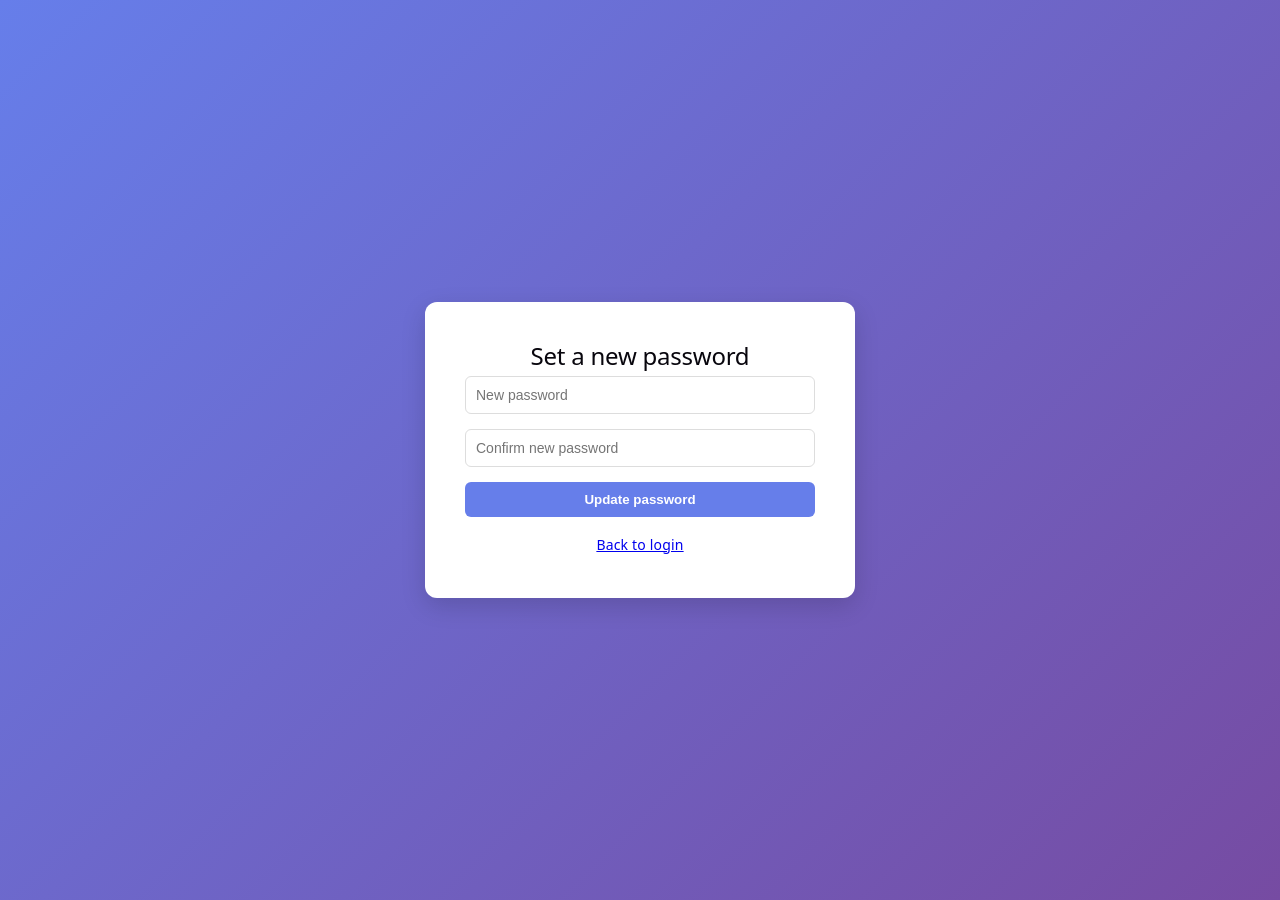
Scenario: ResetPassword page › rejects short passwords client-side
This screenshot has width=1280, height=900.
Type "ab" into the password field with placeholder "New password" at coordinates (640, 395), box [465,376,815,414]
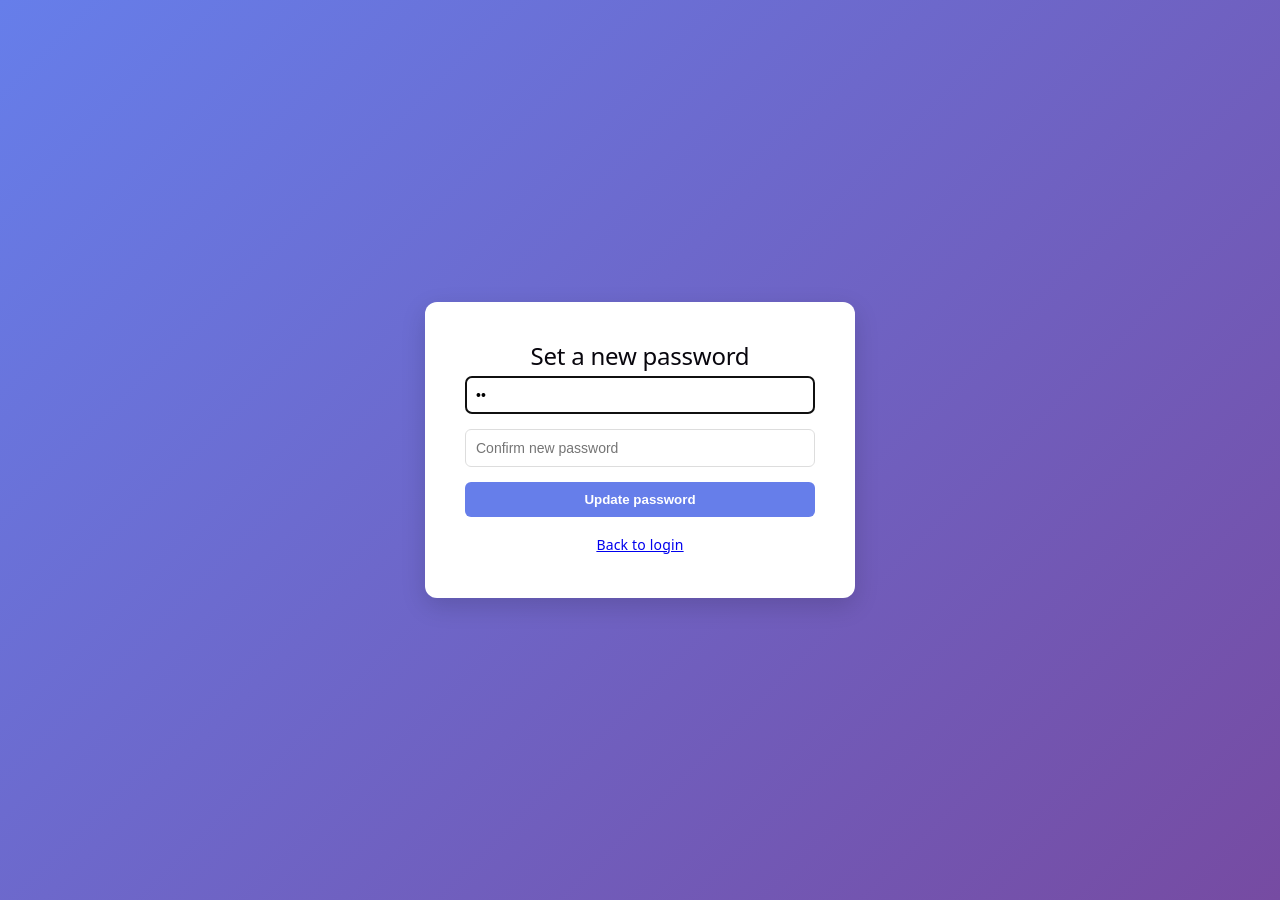
Type "ab" into the password field with placeholder "Confirm new password" at coordinates (640, 448), box [465,429,815,467]
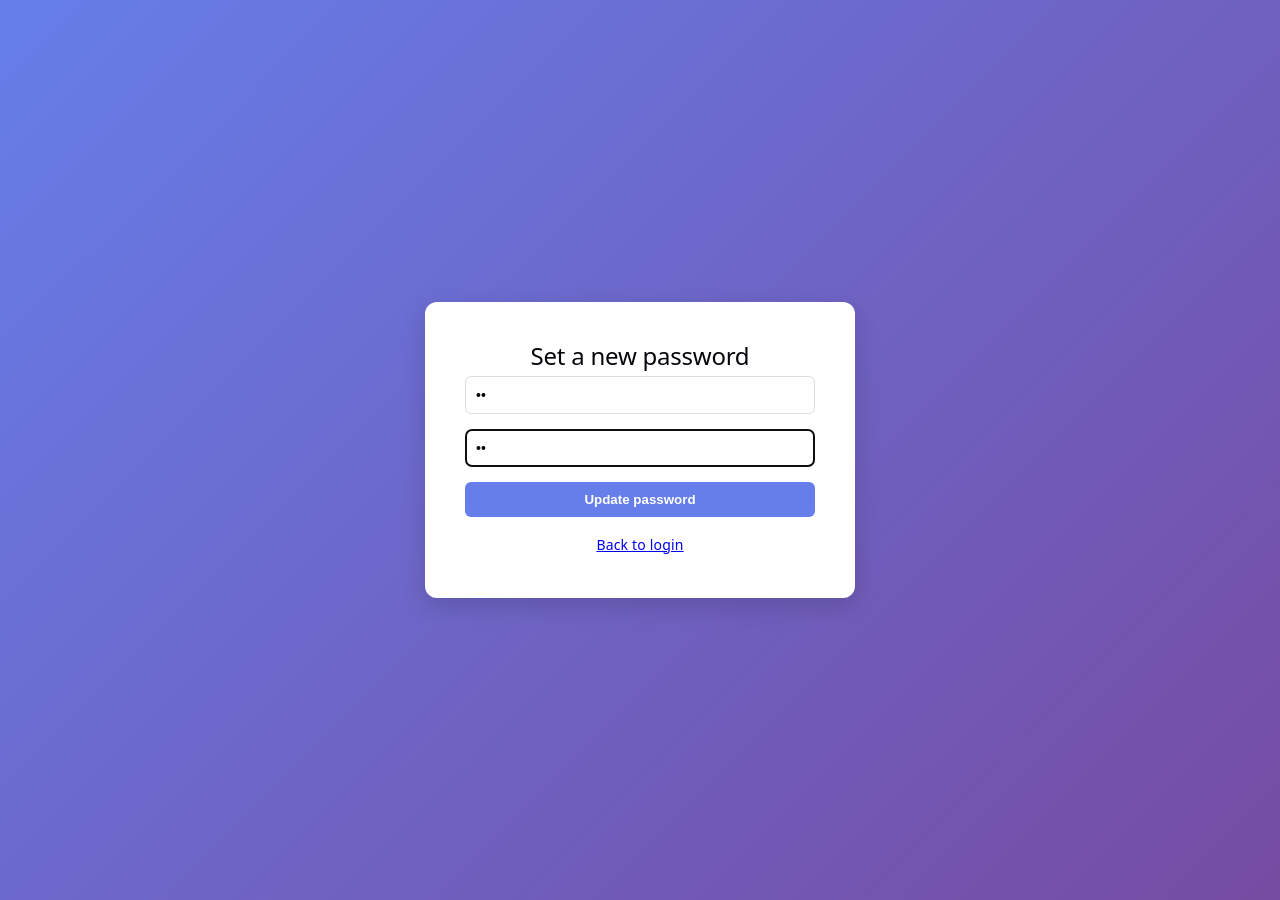
Click the button "Update password" at coordinates (640, 499), box [465,482,815,517]
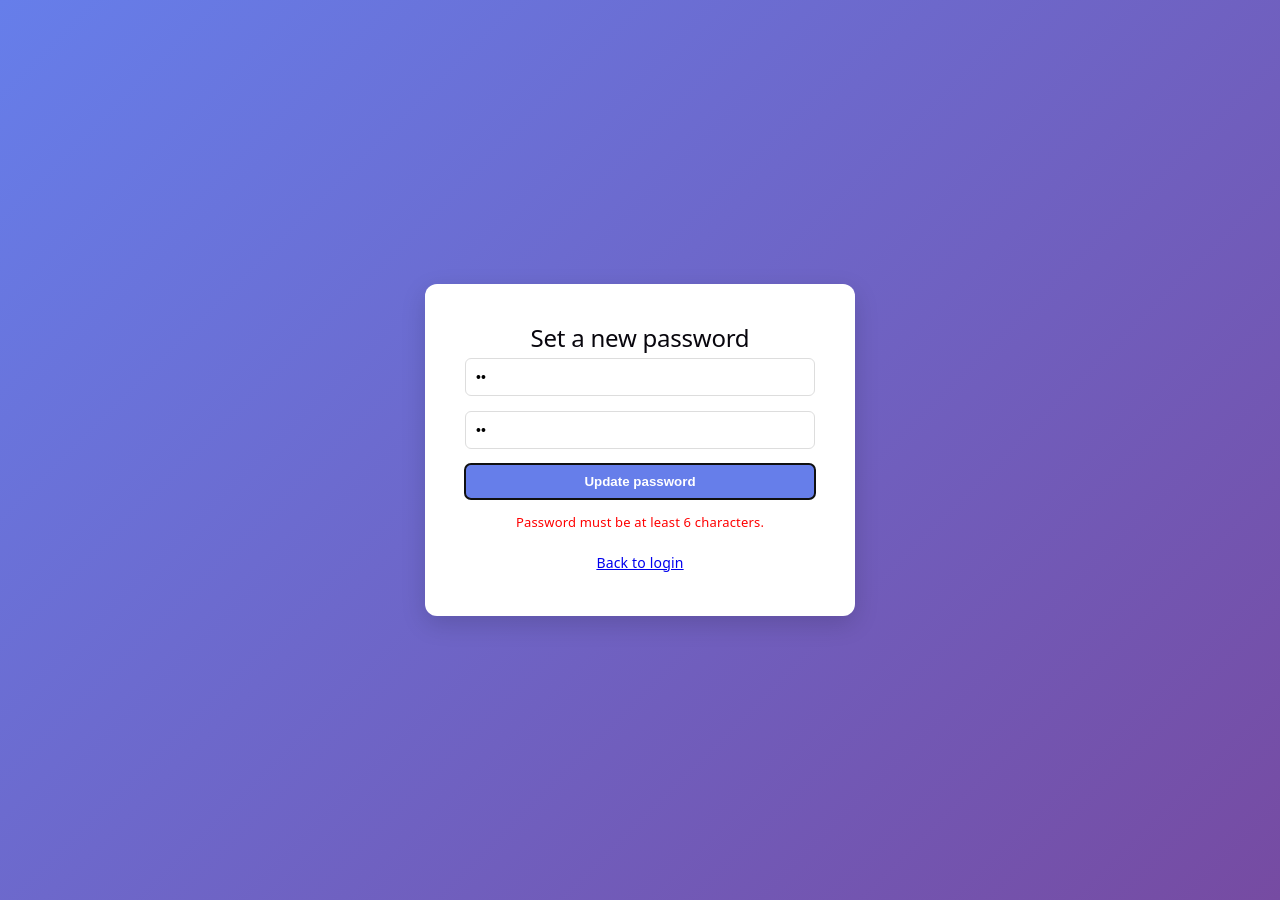
Now the text "Password must be at least 6 characters." is shown, box [516,513,764,531]
